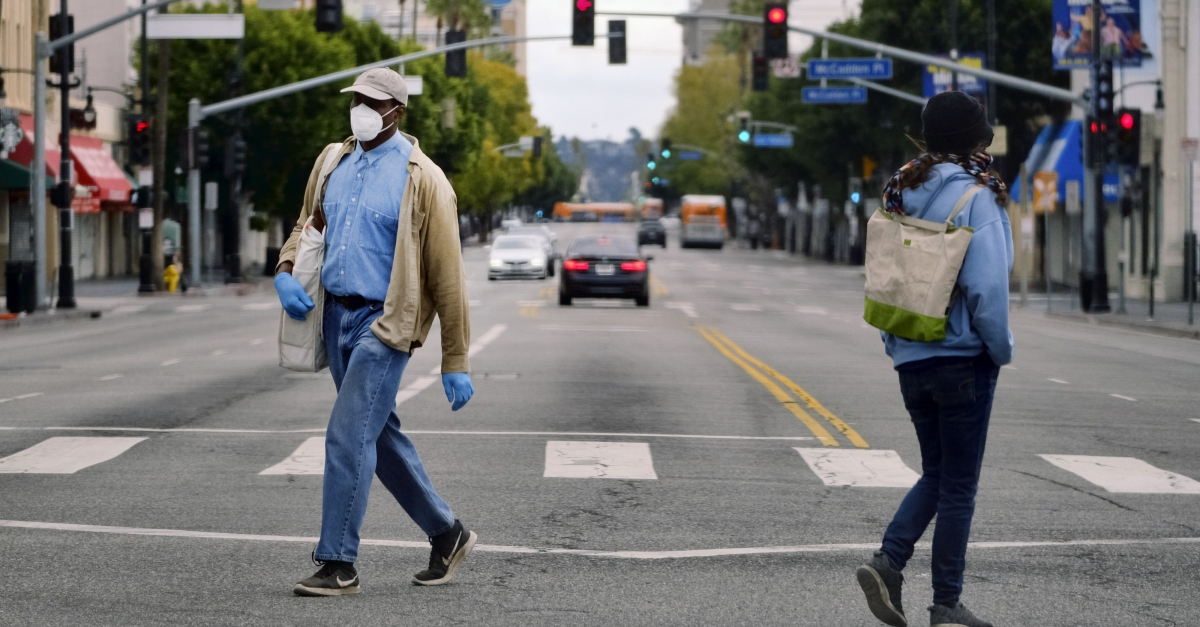Person: (267, 67, 476, 595), (845, 117, 1004, 613)
